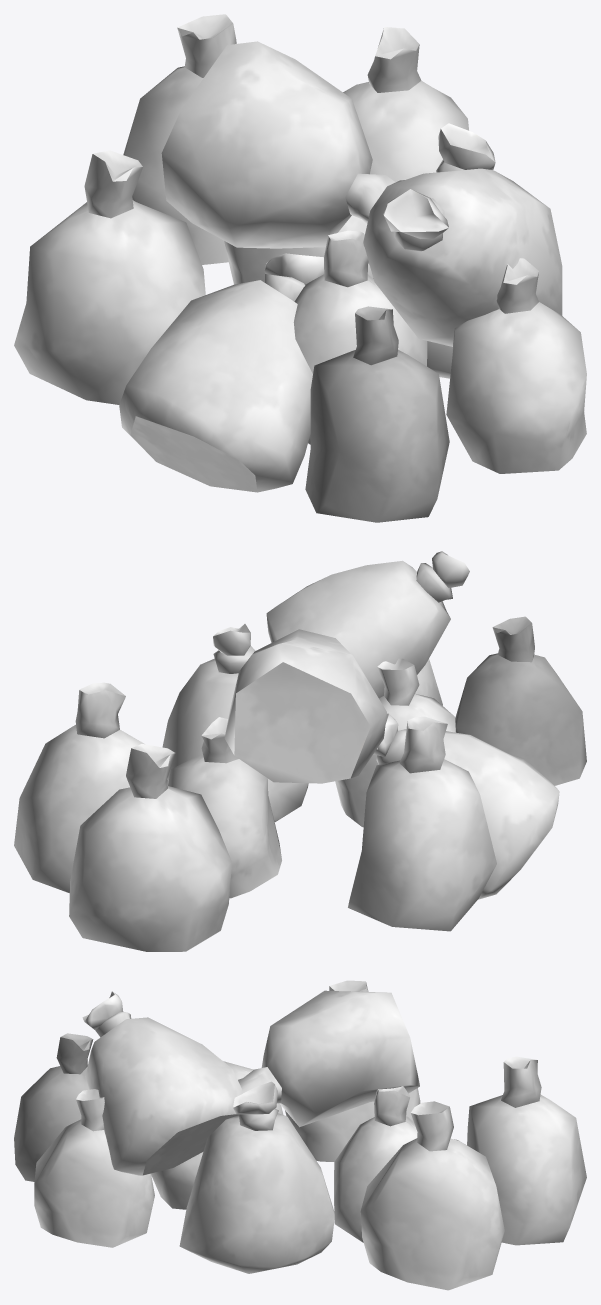
The model's file is Pfb_GargabePileBags.fbx.
3 renders of one model, top to bottom at view 1: azimuth 30°, elevation 25°; view 2: azimuth 150°, elevation 25°; view 3: azimuth 270°, elevation 25°, orthographic. The views are drawn at different scales.
Parts seen in each view (by area): view 1: Mat_Bags_01_4, Mat_Bags_01_1, Mat_Bags_01_3; view 2: Mat_Bags_01_4, Mat_Bags_01_1, Mat_Bags_01_3; view 3: Mat_Bags_01_4, Mat_Bags_01_1, Mat_Bags_01_3.
Boxes of the visible parts, bbox=[...] form: Mat_Bags_01_4: bbox=[14, 14, 586, 473]; Mat_Bags_01_1: bbox=[119, 27, 562, 492]; Mat_Bags_01_3: bbox=[305, 306, 449, 522]; Mat_Bags_01_4: bbox=[69, 624, 496, 951]; Mat_Bags_01_1: bbox=[14, 551, 559, 899]; Mat_Bags_01_3: bbox=[455, 616, 586, 785]; Mat_Bags_01_4: bbox=[34, 980, 586, 1273]; Mat_Bags_01_1: bbox=[82, 991, 504, 1290]; Mat_Bags_01_3: bbox=[14, 1033, 93, 1181].
Size of the model in its own units: 2.3 by 1.49 by 3.15.
Materials: 3 (3 with a texture image).
